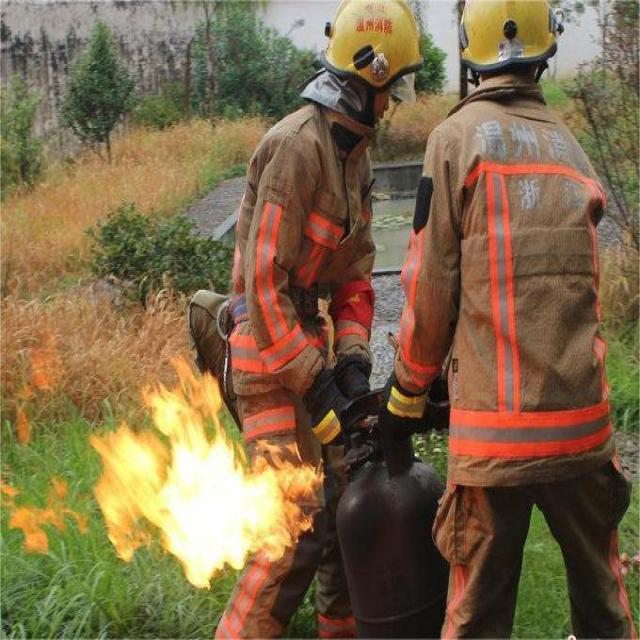Fire: (89, 358, 322, 585)
